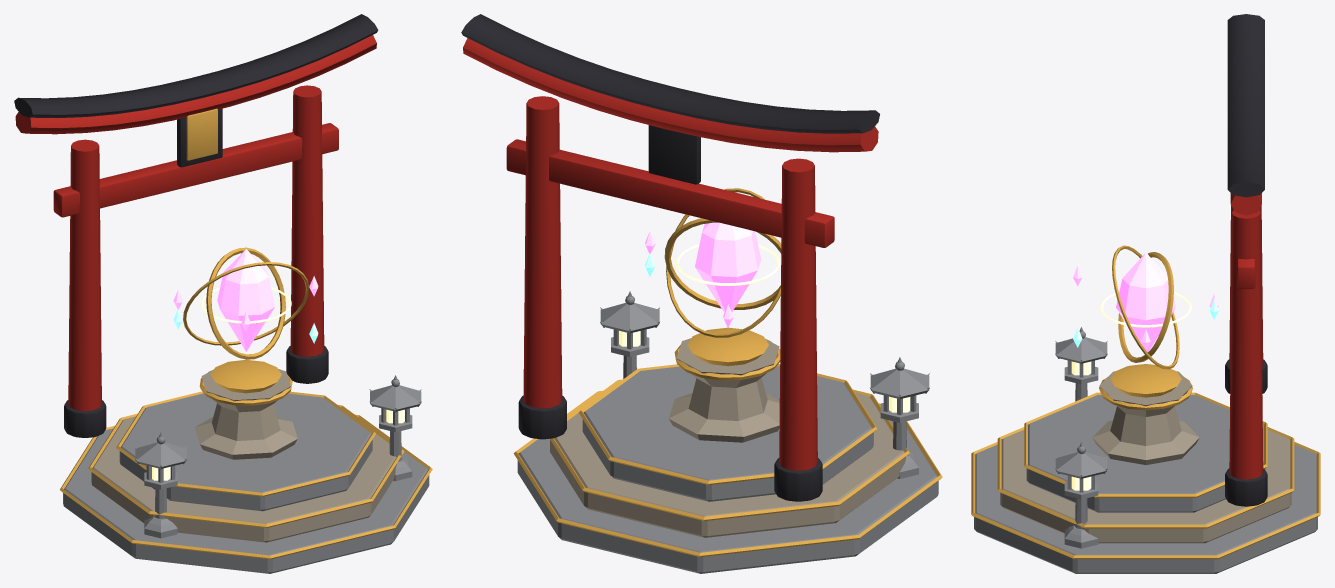
The model's file is gacha_shrine.glb.
3 views of the same model, side by side, from view 1: azimuth 30°, elevation 25°; view 2: azimuth 150°, elevation 25°; view 3: azimuth 270°, elevation 25° (orthographic). The views are drawn at different scales.
Parts seen in each view (by area): view 1: gacha_shrine, gacha_crystal; view 2: gacha_shrine, gacha_crystal; view 3: gacha_shrine, gacha_crystal.
Boxes of the visible parts, x1,y1,x2,y2 form: gacha_shrine: (14,14,432,573); gacha_crystal: (173,245,318,359); gacha_shrine: (461,14,942,573); gacha_crystal: (645,188,781,337); gacha_shrine: (971,14,1320,573); gacha_crystal: (1073,245,1218,369).
Bounding box in the file's own units: 5.68 × 6.23 × 4.88.
